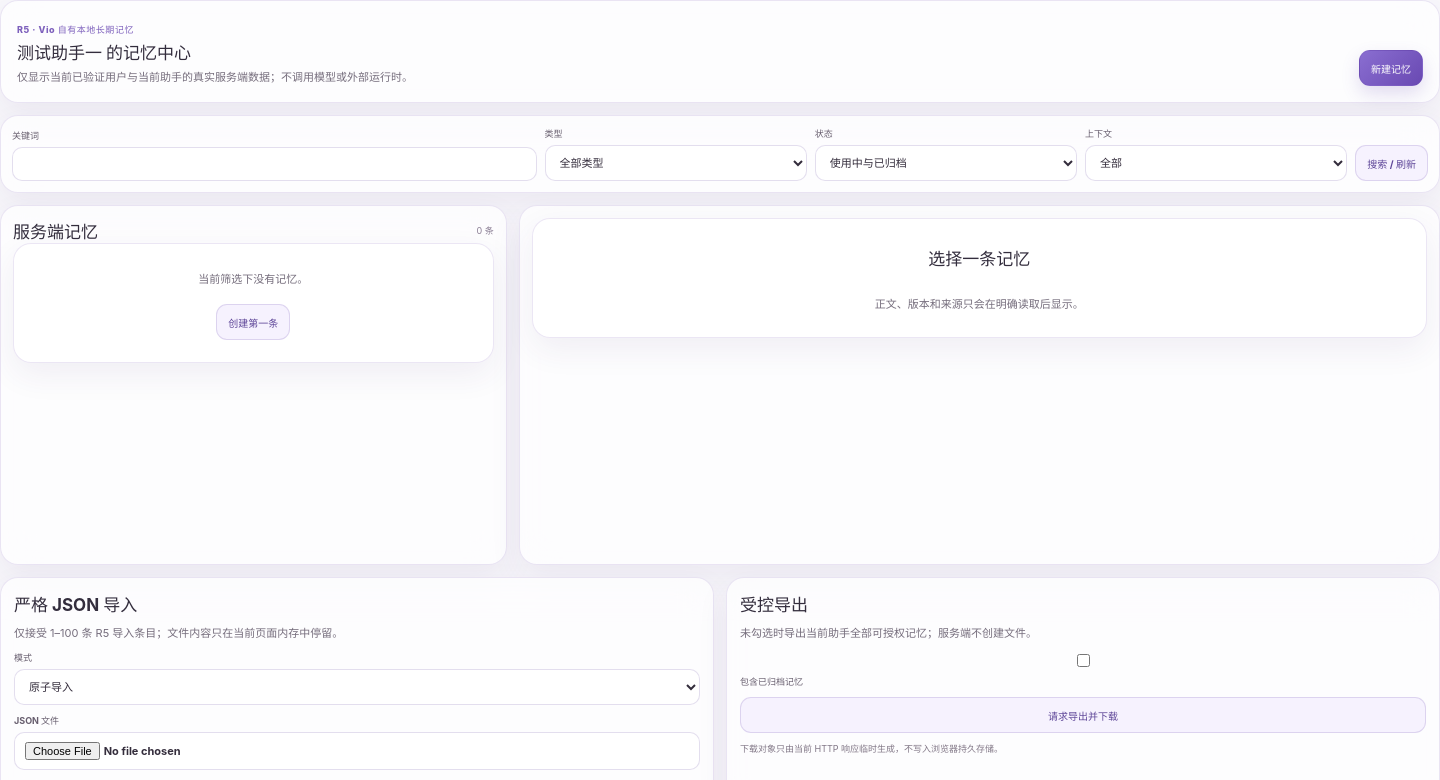
Test: R5 MemoryManager › closes the editor so a write confirmation can resume the original key and body
Expected: the text "当前筛选下没有记忆。" is shown, 198,271 -> 308,288
Click the button "新建记忆" at (1391, 68), box 1359,50 -> 1423,86
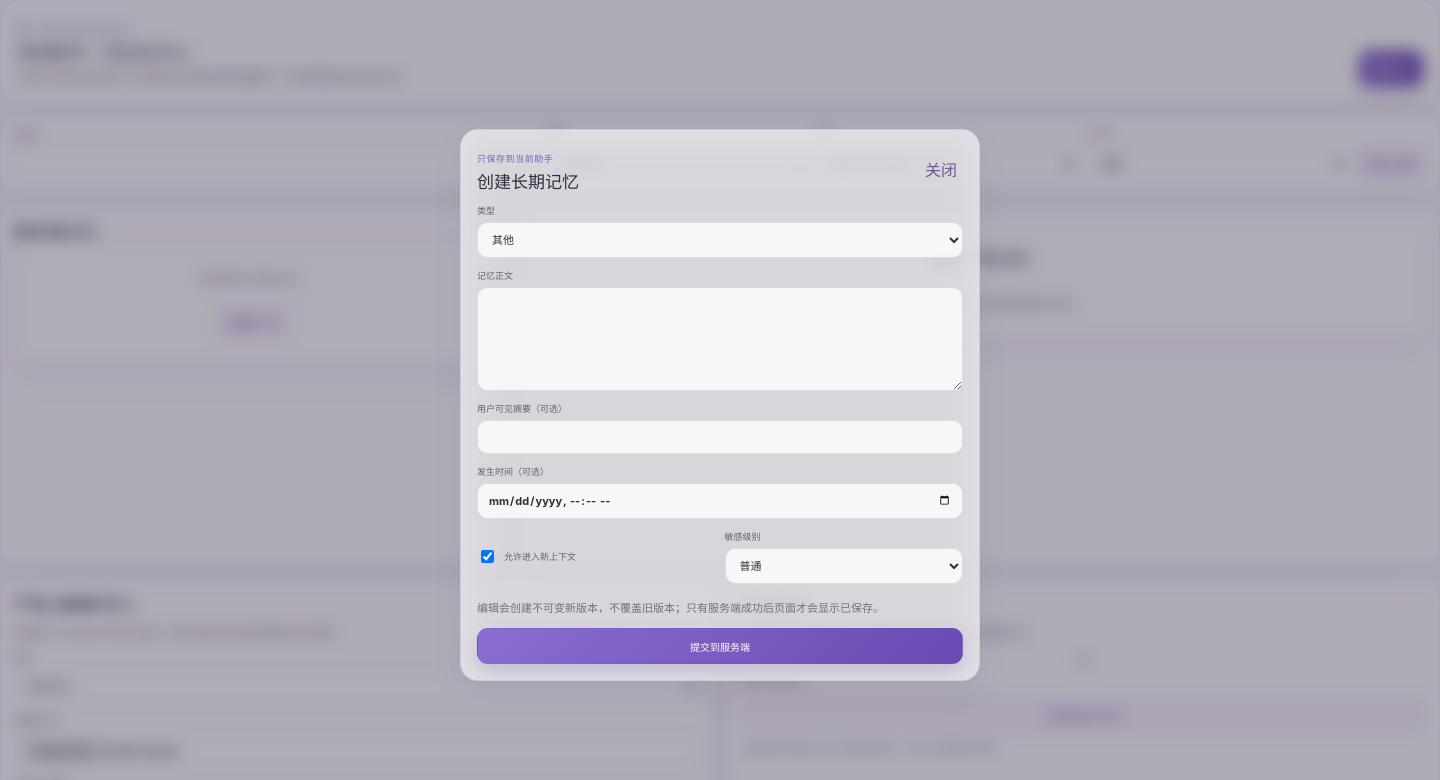
Type "确认后按原正文保存" into the text box labelled "记忆正文" at (720, 339), box 477,287 -> 963,391
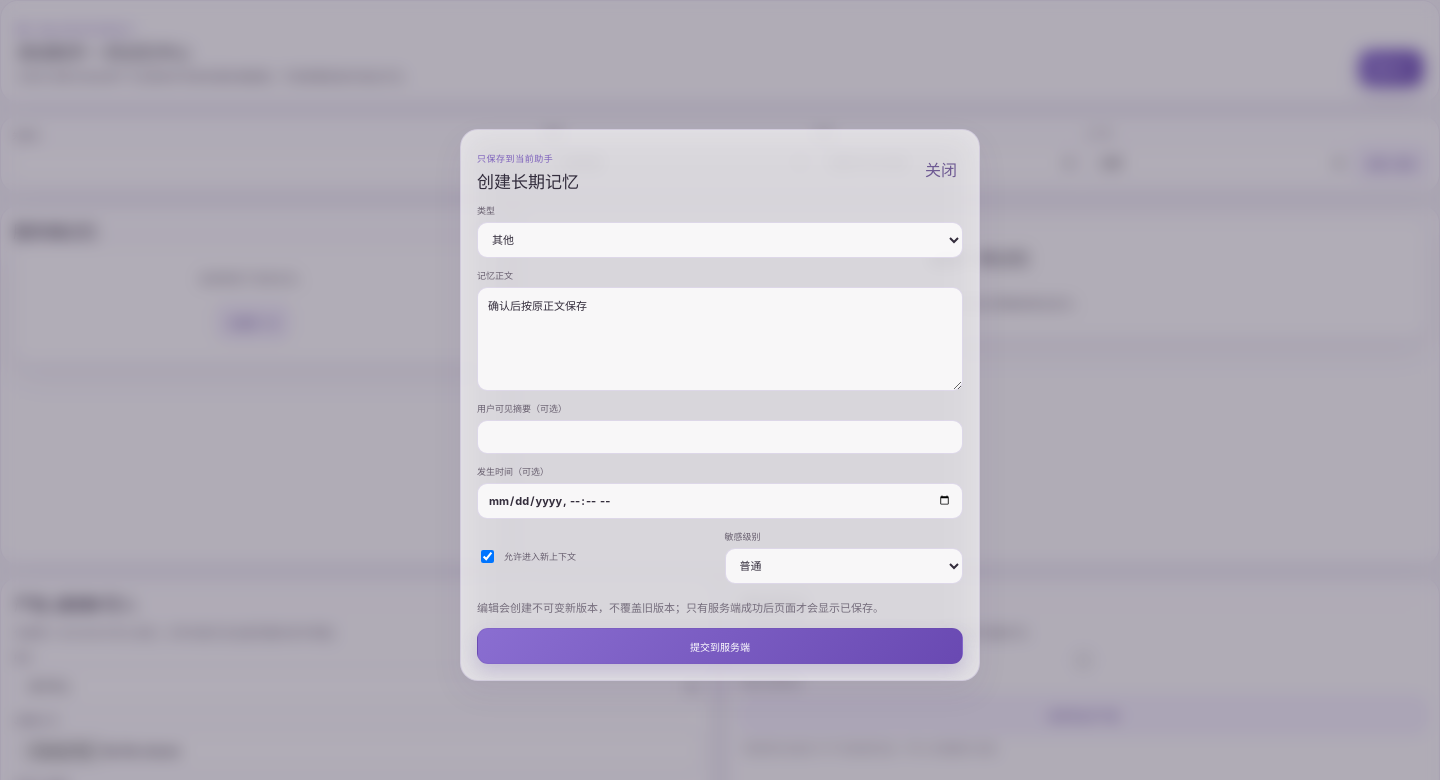
Click the button "提交到服务端" at (720, 646), box 477,628 -> 963,664
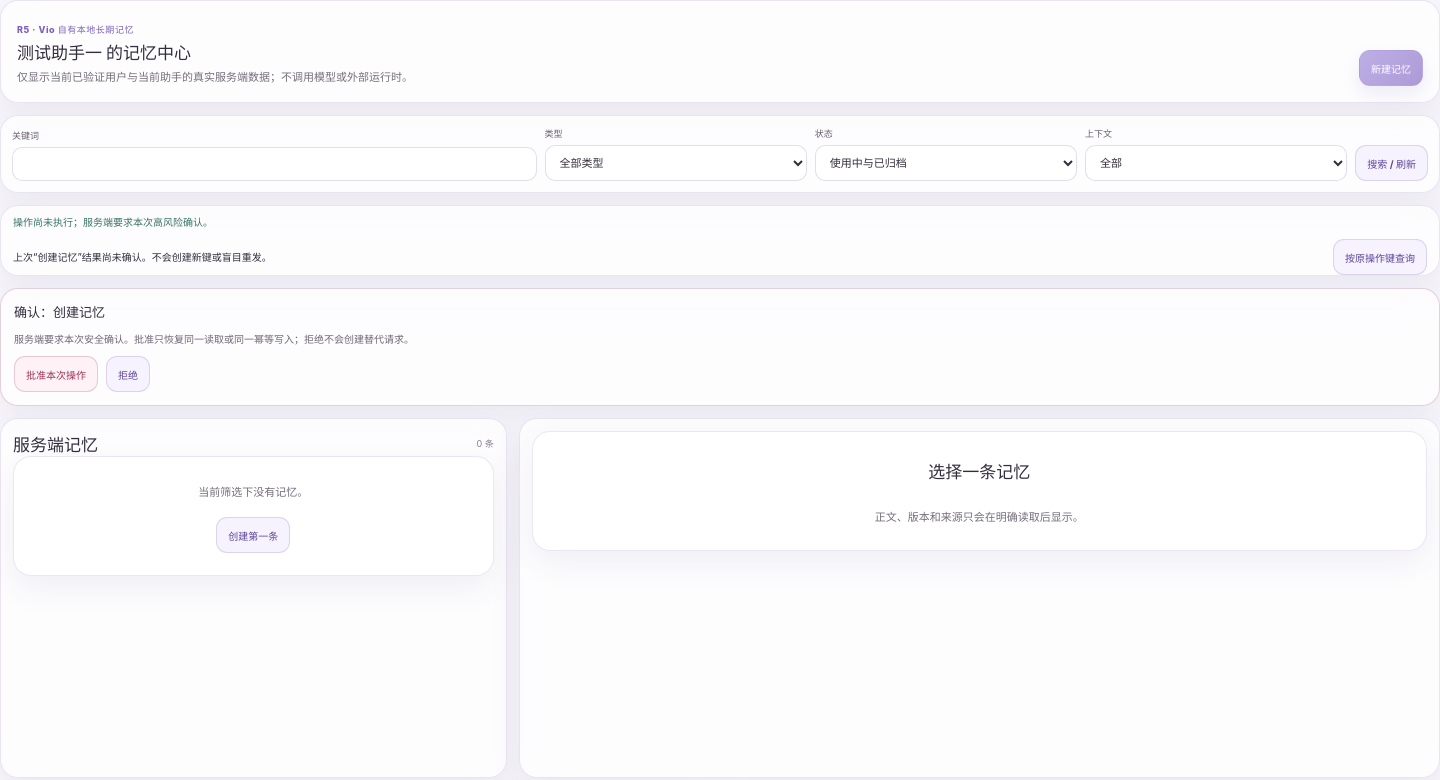
Now the element named "记忆安全确认" is shown, box 0,288 -> 1439,406
Now the heading "创建长期记忆" is gone
Click the button "批准本次操作" at (56, 374), box 14,356 -> 98,392
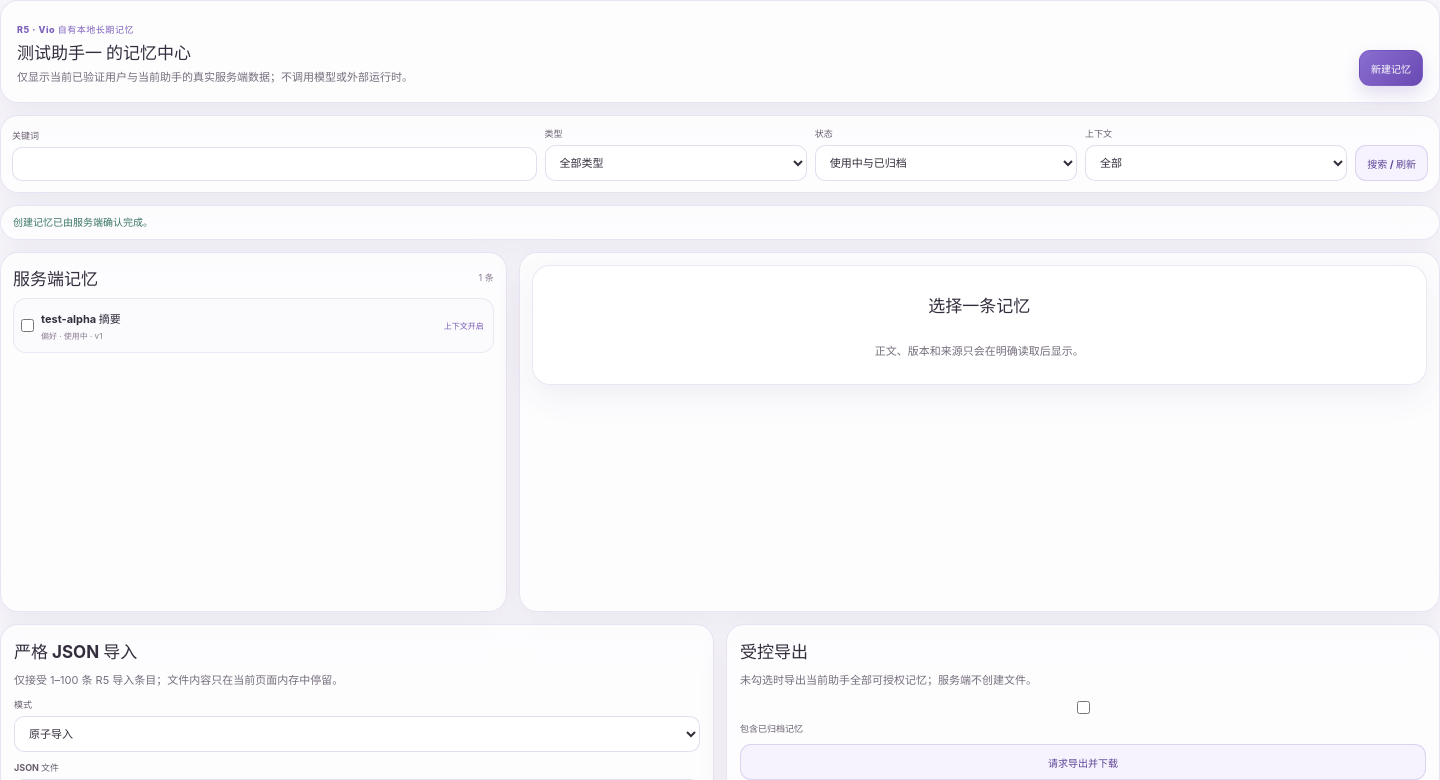
Now the text "创建记忆已由服务端确认完成。" is shown, box 13,216 -> 153,228
